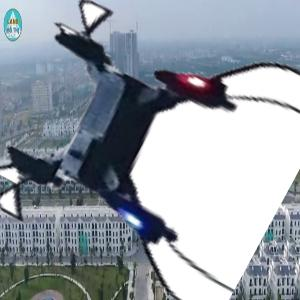drone: (2, 2, 294, 294)
